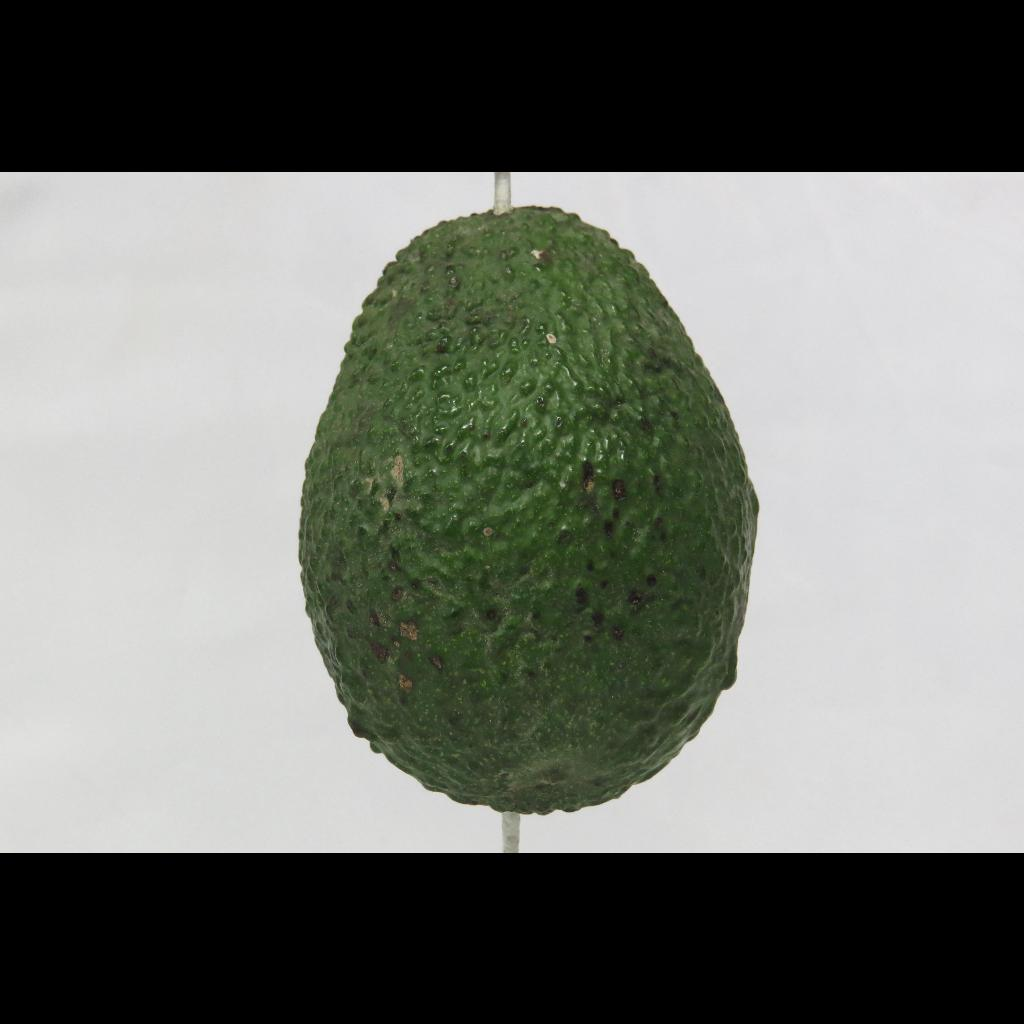fruto_sano: (249, 188, 803, 824)
